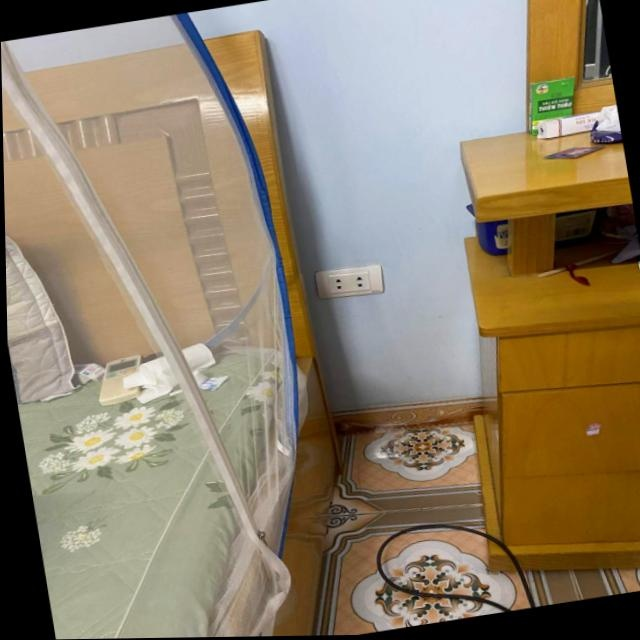outlet: (313, 261, 386, 303)
